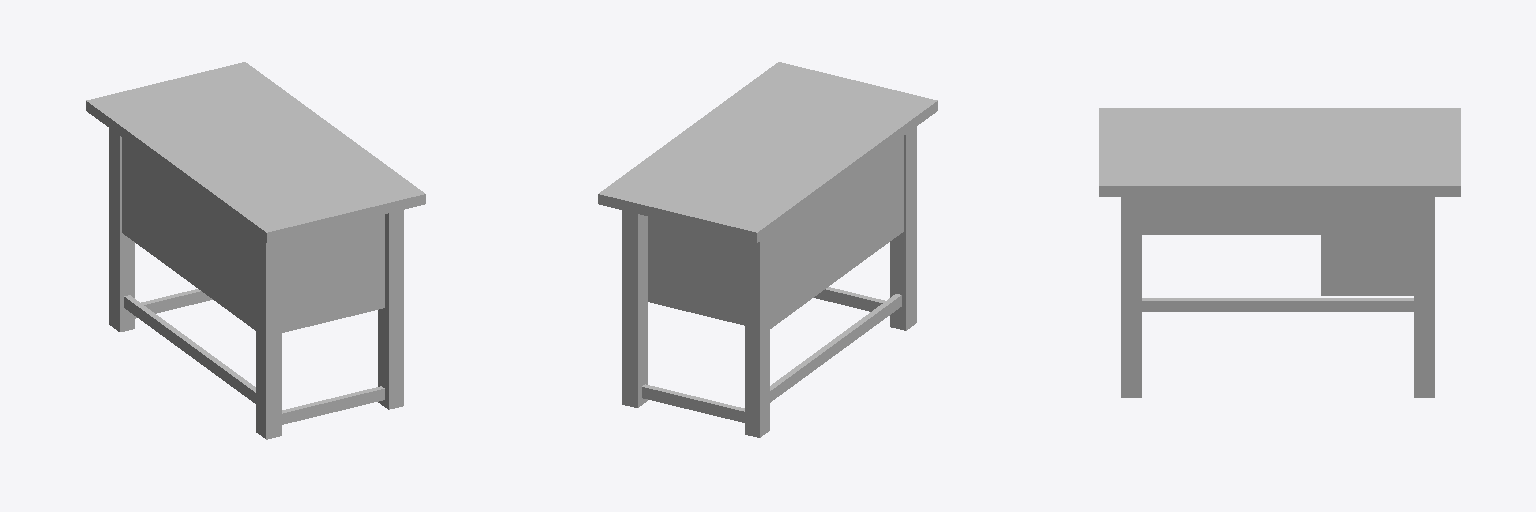
The model's file is Table.obj.
3 renders of one model, left to right at view 1: azimuth 30°, elevation 25°; view 2: azimuth 150°, elevation 25°; view 3: azimuth 270°, elevation 25°, orthographic.
Parts seen in each view (by area): view 1: Cube; view 2: Cube; view 3: Cube.
Boxes of the visible parts, x1,y1,x2,y2 form: Cube: [86, 62, 425, 439]; Cube: [598, 62, 937, 437]; Cube: [1099, 108, 1460, 397].
Size of the model in its own units: 2.54 by 3.31 by 4.99.